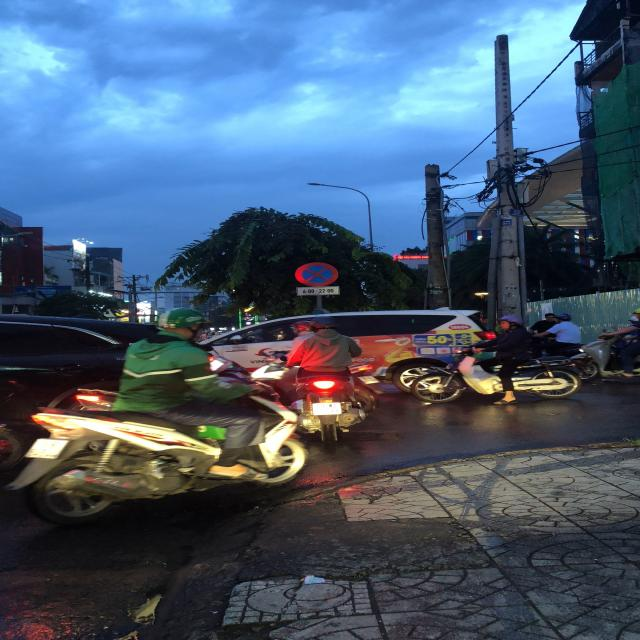Bien bao cam dung xe va do xe: (290, 259, 343, 289)
